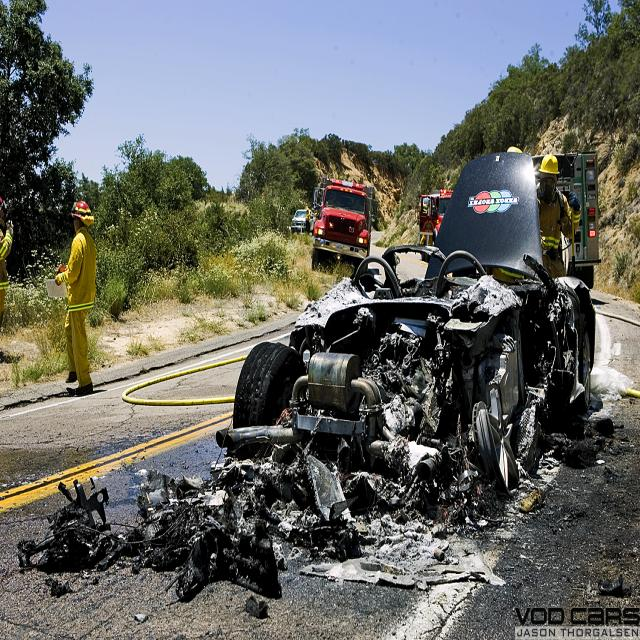crush: (230, 243, 600, 543)
